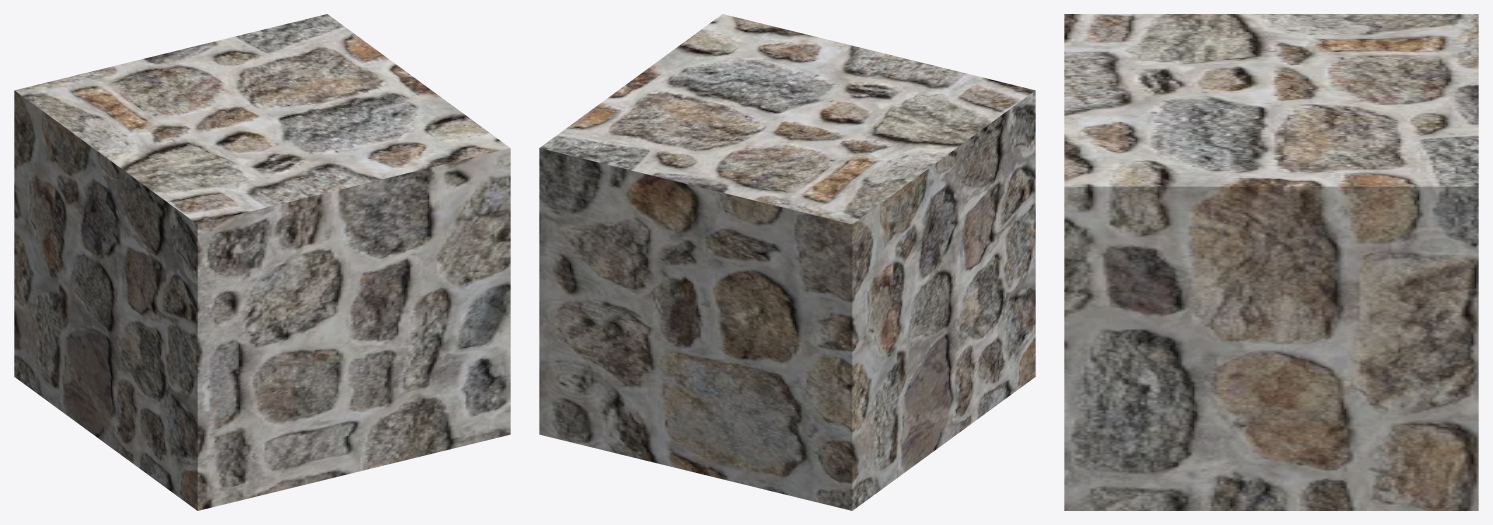
The model's file is pared_laberinto.200_lev1_lev2.glb.
The picture shows the model from 3 angles, left to right: view 1: azimuth 30°, elevation 25°; view 2: azimuth 150°, elevation 25°; view 3: azimuth 270°, elevation 25°; orthographic projection. The views are drawn at different scales.
Visible parts, largest first — view 1: pared_laberinto.200_lev1_lev2; view 2: pared_laberinto.200_lev1_lev2; view 3: pared_laberinto.200_lev1_lev2.
Part boxes in pixels (x1,y1,x2,y2): pared_laberinto.200_lev1_lev2: (14, 14, 510, 510); pared_laberinto.200_lev1_lev2: (539, 14, 1035, 510); pared_laberinto.200_lev1_lev2: (1064, 14, 1478, 510).
Size of the model in its own units: 5.39 by 4.72 by 5.47.
Materials: 1 (1 with a texture image).
